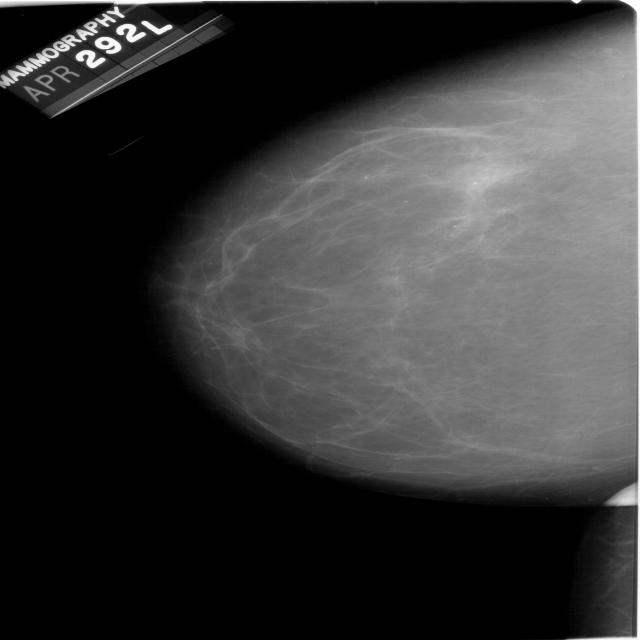cancer: (354, 125, 569, 282), (170, 291, 307, 385)
